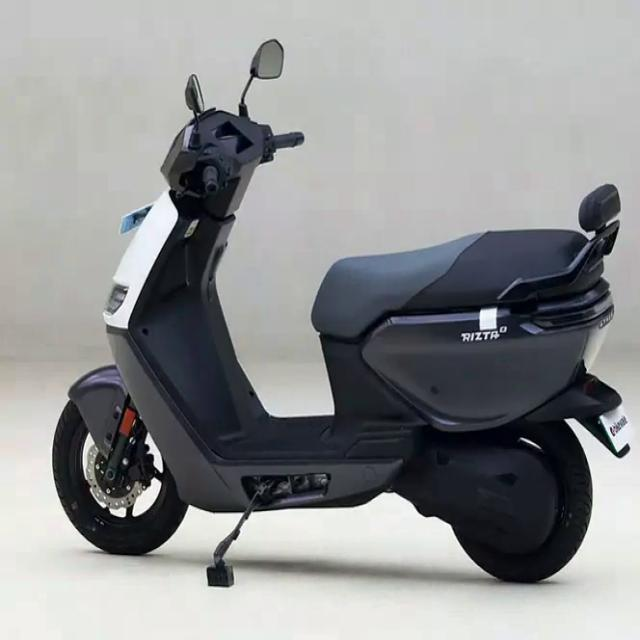objects: (44, 17, 638, 593)
